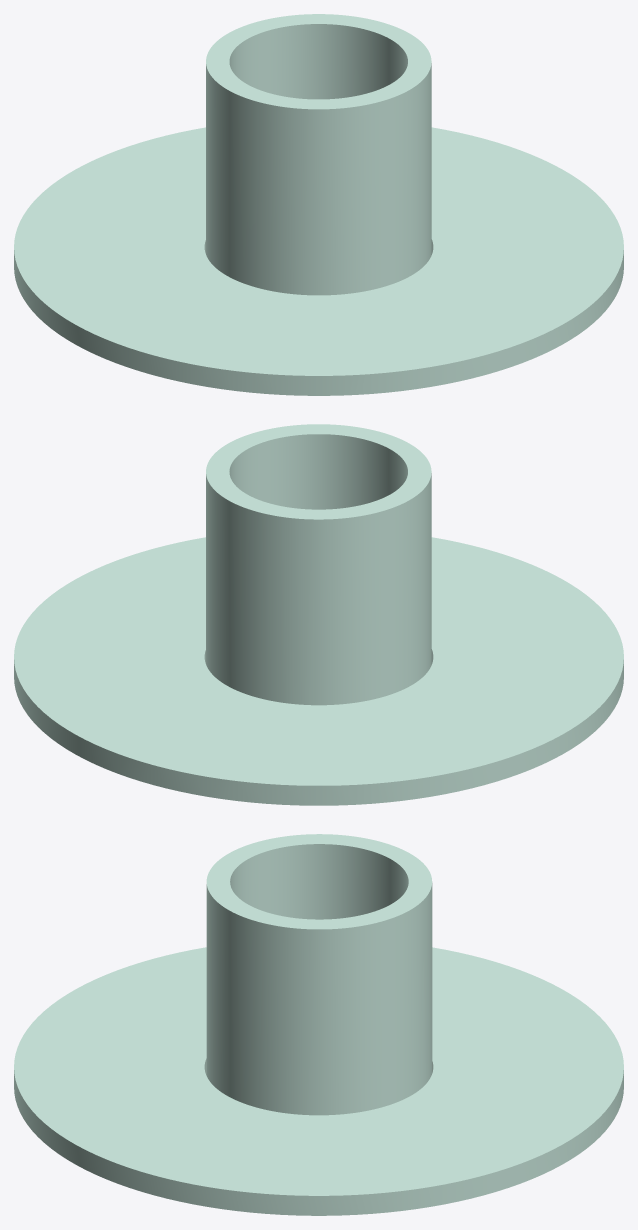
3 views of the same model, one above another, from view 1: azimuth 30°, elevation 25°; view 2: azimuth 150°, elevation 25°; view 3: azimuth 270°, elevation 25° (orthographic).
Parts seen in each view (by area): view 1: Renderer Node; view 2: Renderer Node; view 3: Renderer Node.
Part boxes in pixels (bbox=[...]): Renderer Node: bbox=[14, 14, 623, 395]; Renderer Node: bbox=[14, 424, 623, 805]; Renderer Node: bbox=[14, 834, 623, 1215].
Size of the model in its own units: 1.52 by 0.5625 by 1.52.
